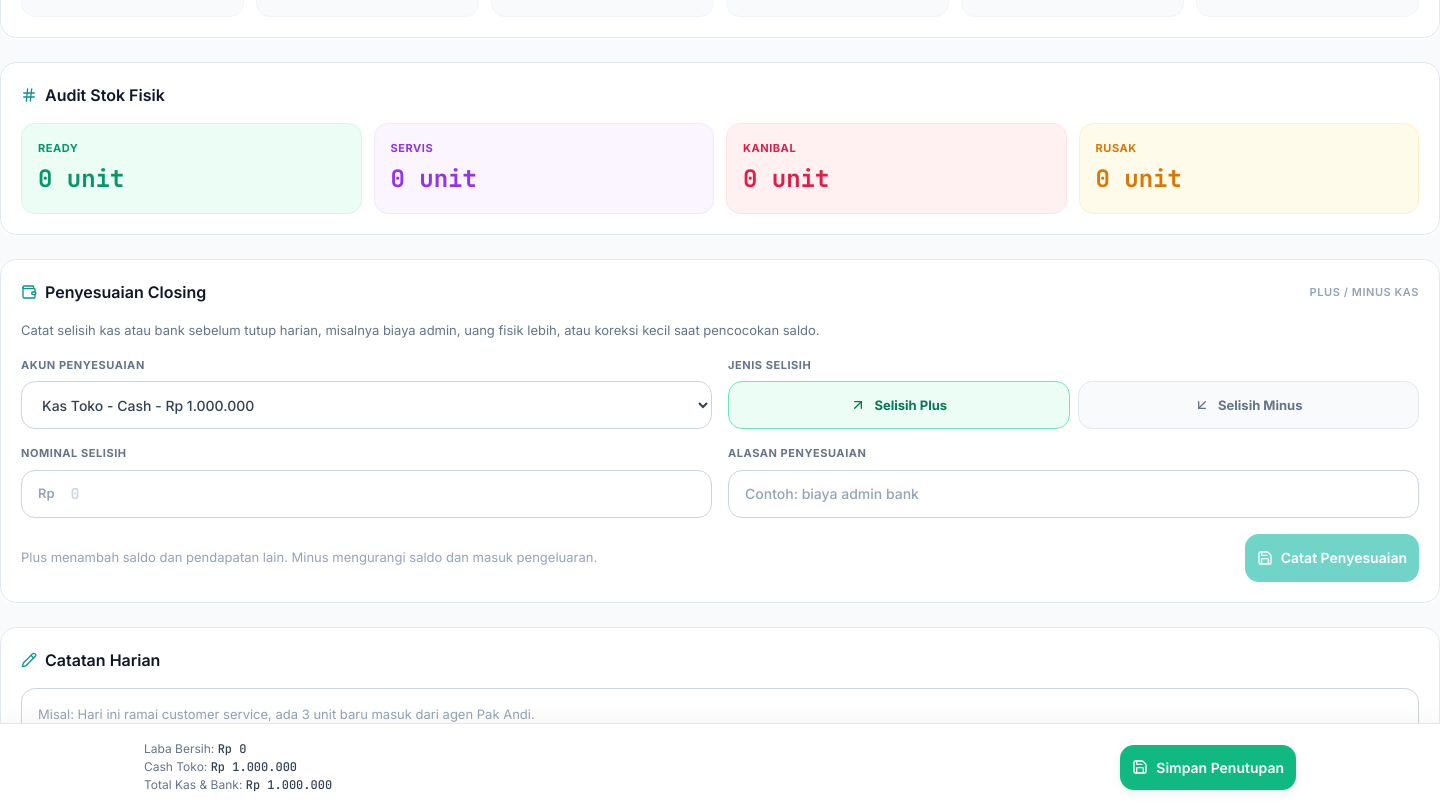
Test: TutupHarian closing adjustments › records a closing plus as Pemasukan Lain with a money_in posting
(page scrolled)
Expected: the heading "Penyesuaian Closing" is shown, x1=45 y1=280 x2=206 y2=304
Step 1. Select "Kas Toko - Cash - Rp 1.000.000" in the dropdown labelled "Akun Penyesuaian" → (366, 405), box x1=21 y1=381 x2=712 y2=429
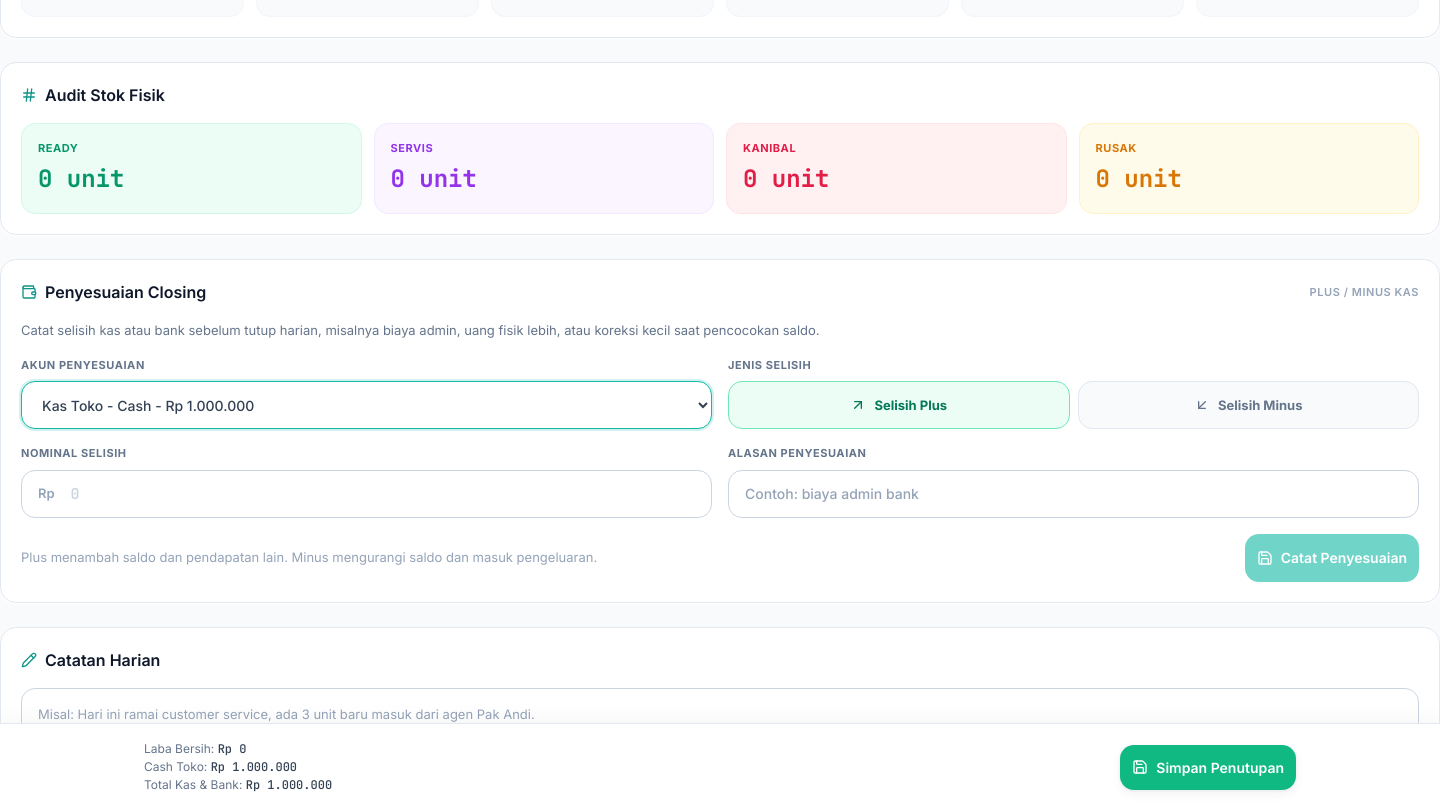
Step 2. Type "50000" into the field labelled "Nominal Selisih" → (391, 494), box x1=71 y1=483 x2=711 y2=505
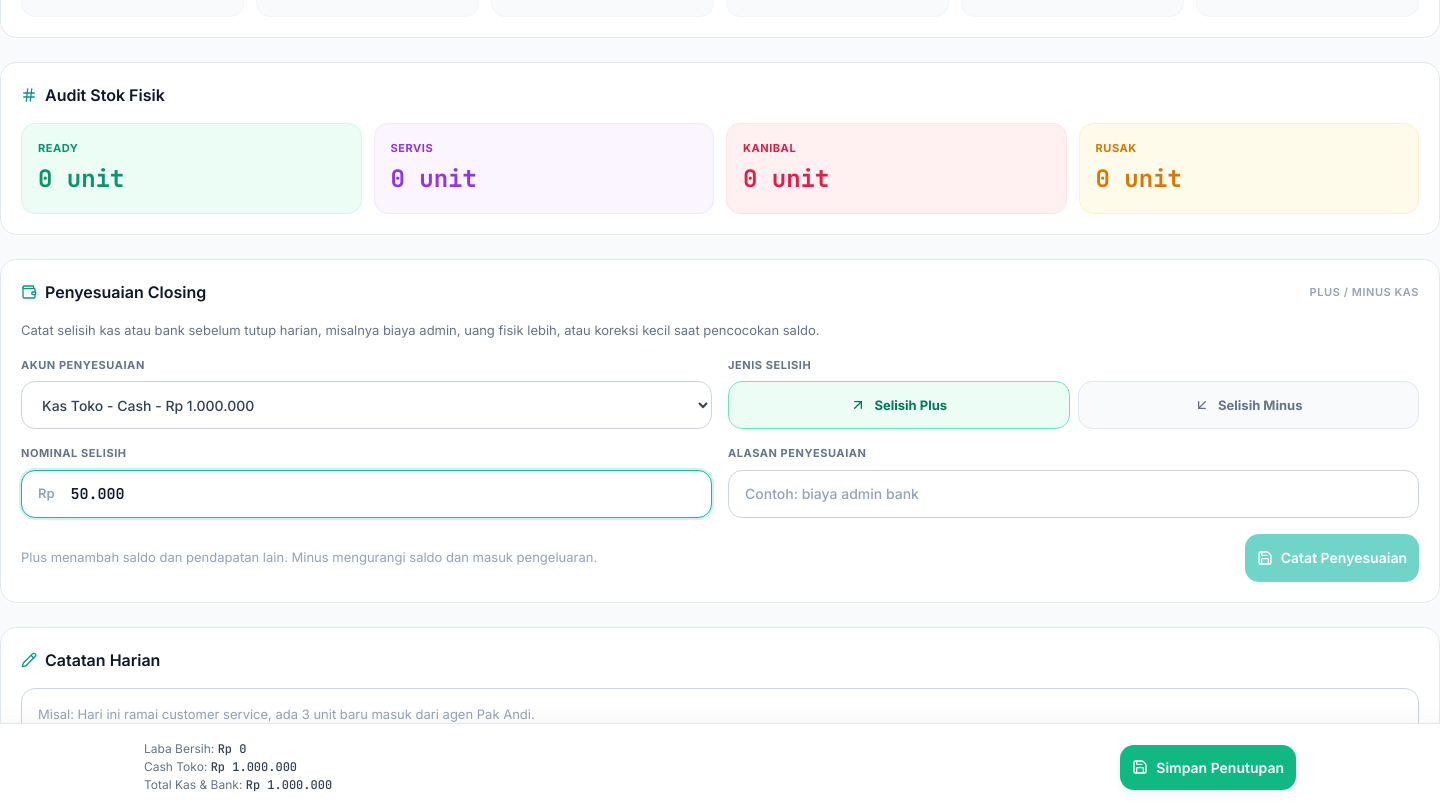
Step 3. Type "Kas fisik lebih" into the field labelled "Alasan Penyesuaian" → (1074, 494), box x1=728 y1=470 x2=1419 y2=518
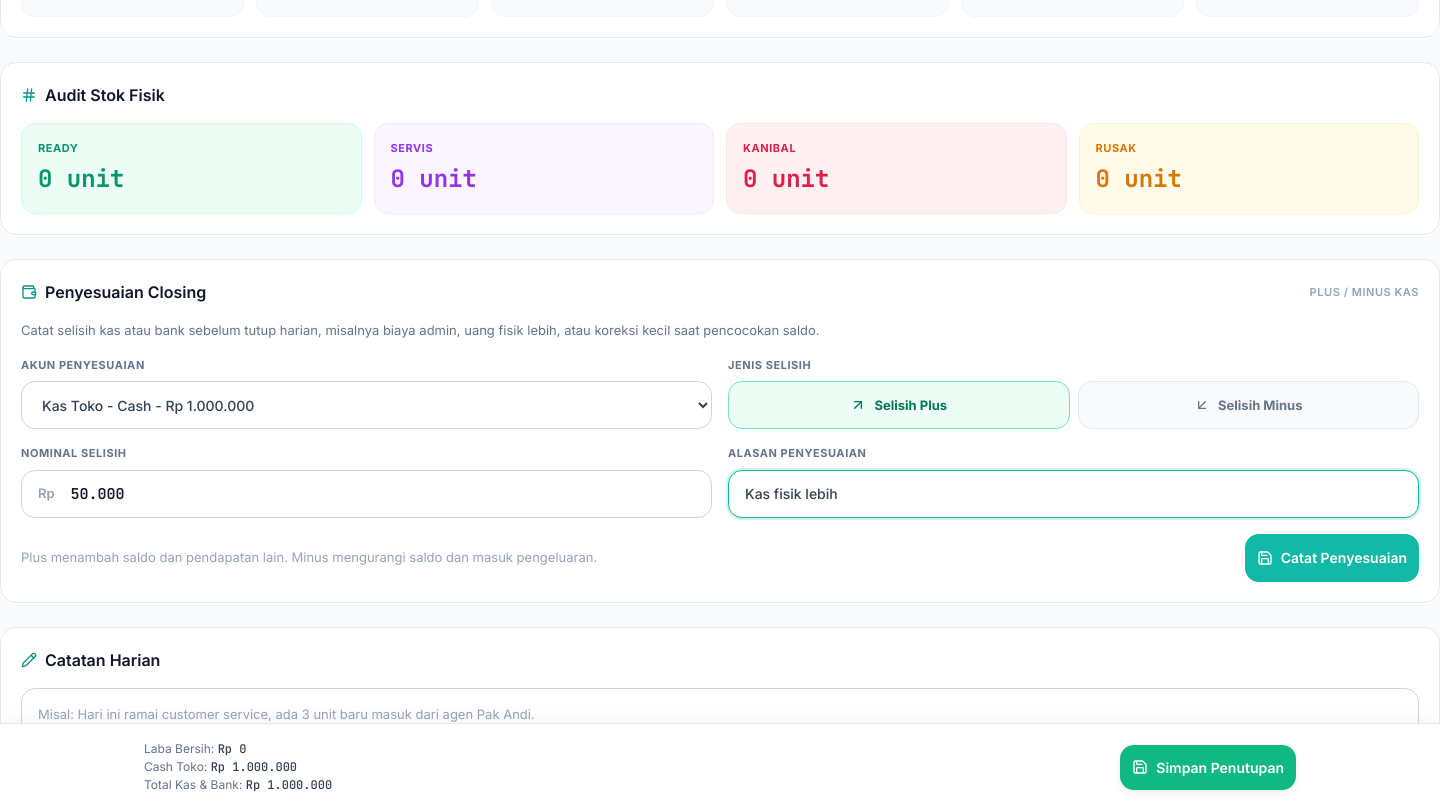
Step 4. Click the button "Catat Penyesuaian" → (1332, 558), box x1=1245 y1=534 x2=1419 y2=582
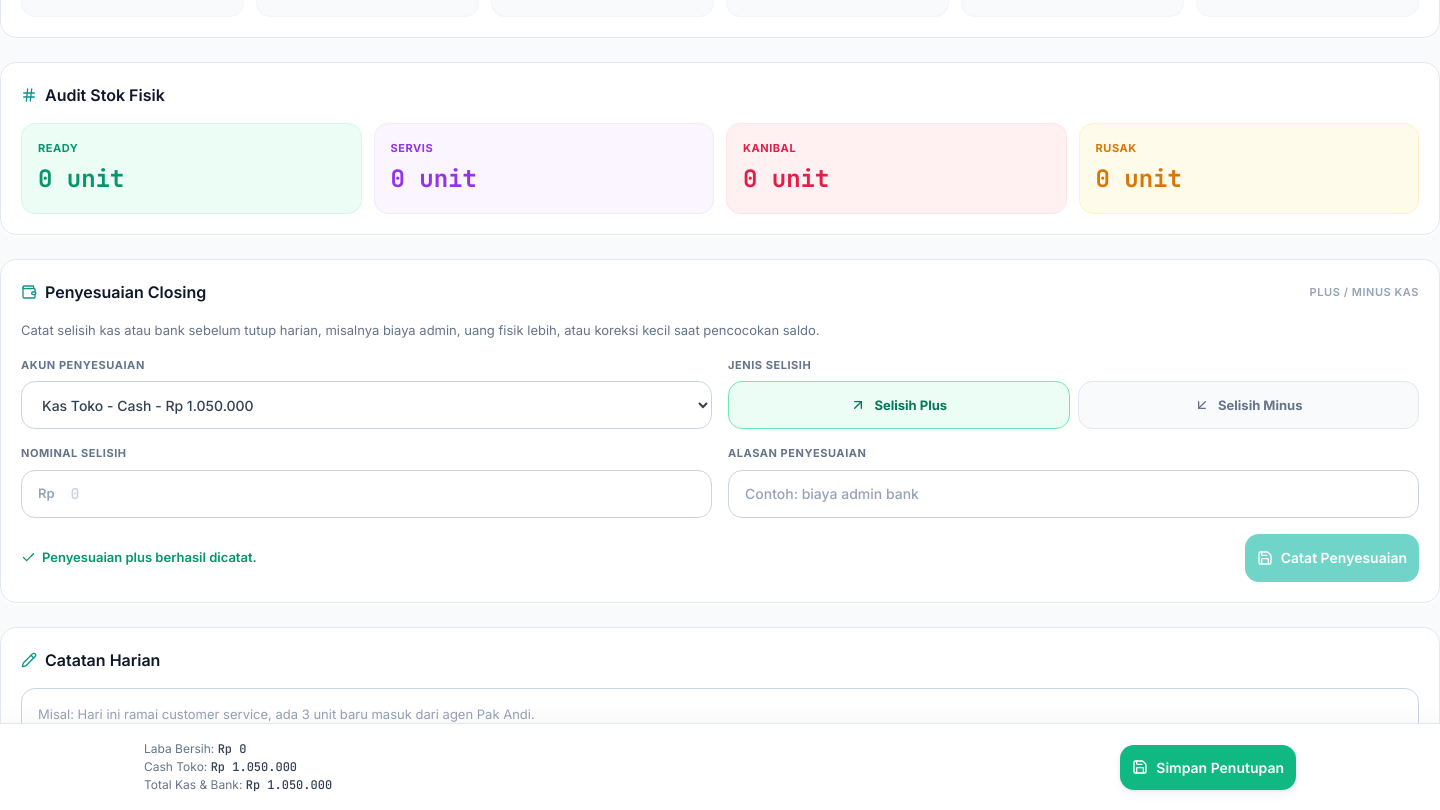
Expected: the text "Penyesuaian plus berhasil dicatat." is shown, x1=21 y1=548 x2=257 y2=567
